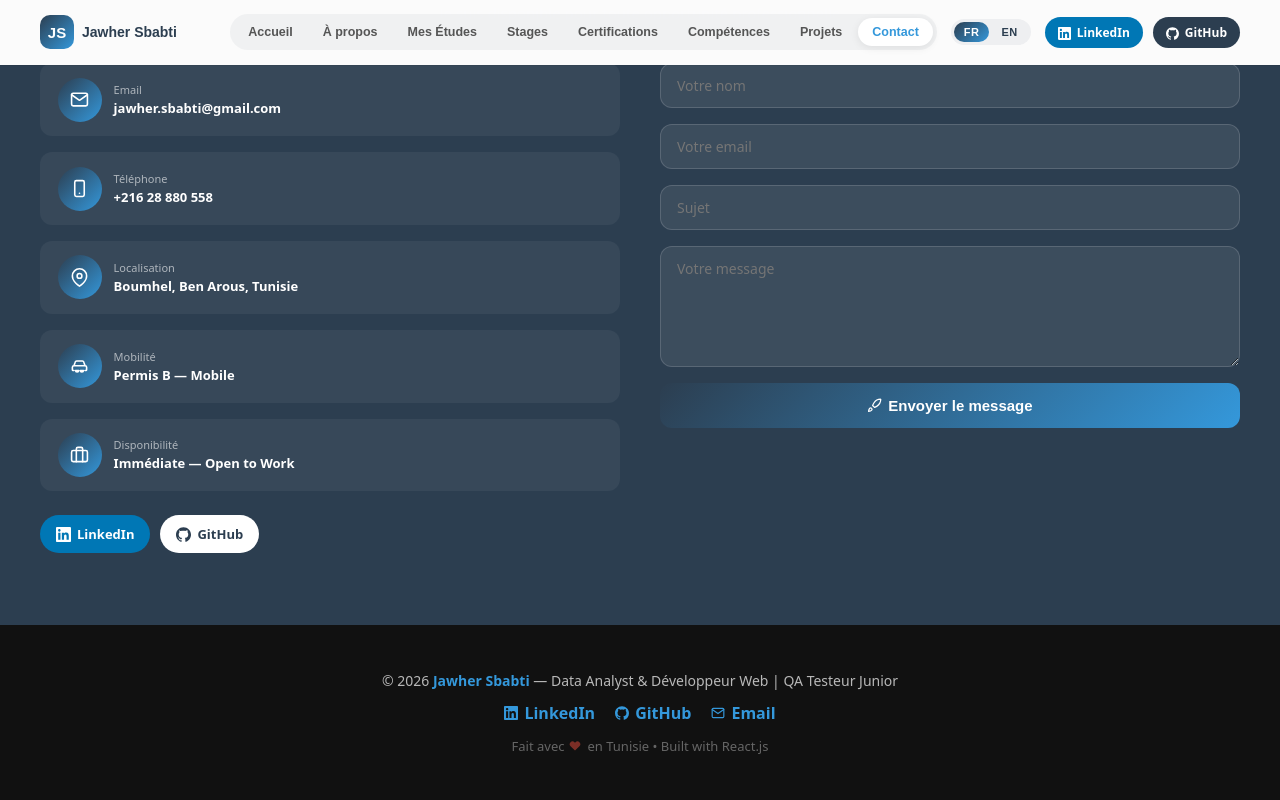
Test case: Portfolio de Jawher Sbabti › formulaire de contact › demande de remplir les champs obligatoires
The width and height of the screenshot is (1280, 800).
(page scrolled)
Click the button "Envoyer le message" at (950, 406), box [660, 383, 1240, 428]
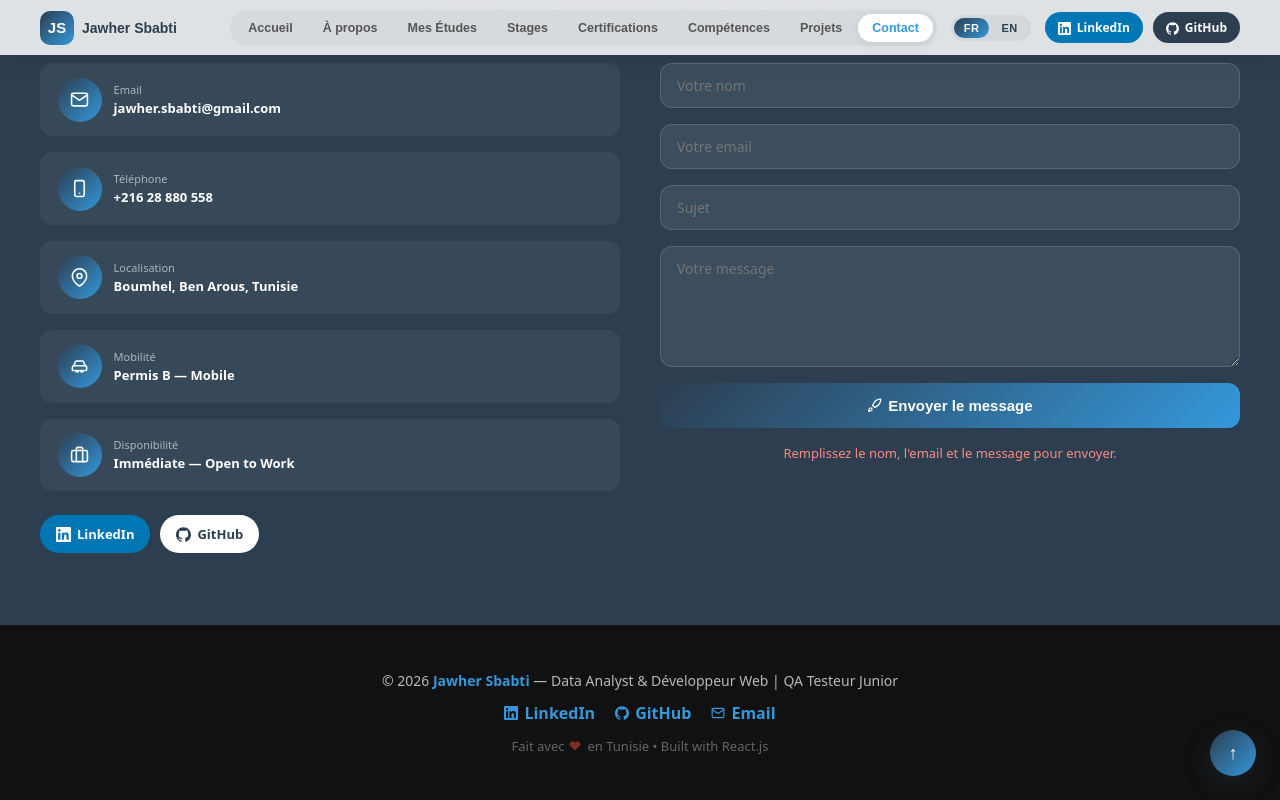
Now the text "Remplissez le nom, l'email et le message pour envoyer." is shown, box [783, 444, 1116, 462]
